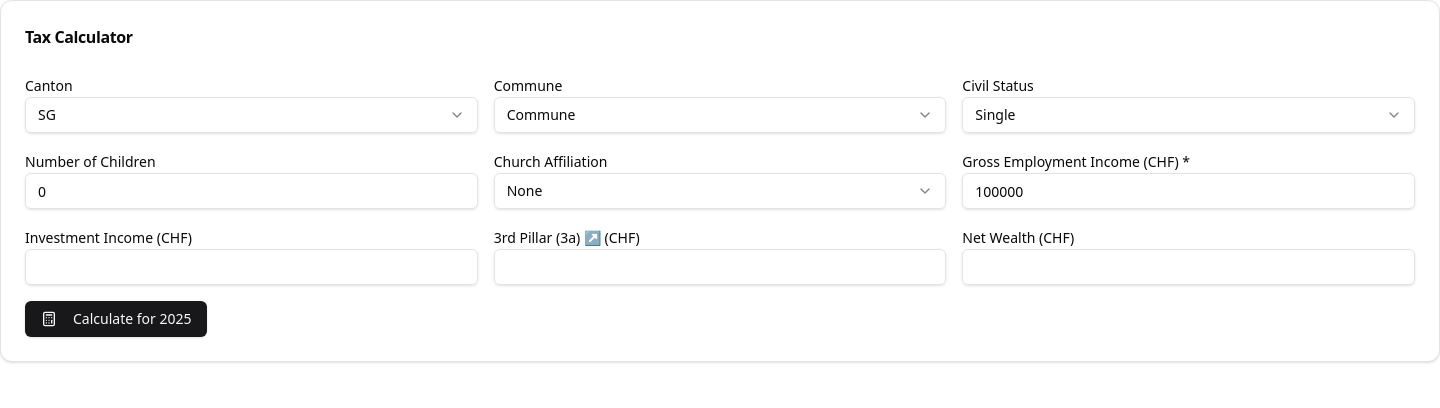
CalculatorCard › shows the backend error message when saving fails
The width and height of the screenshot is (1440, 408).
Click the button "Calculate for 2025" at (116, 319), box [25,301,208,337]
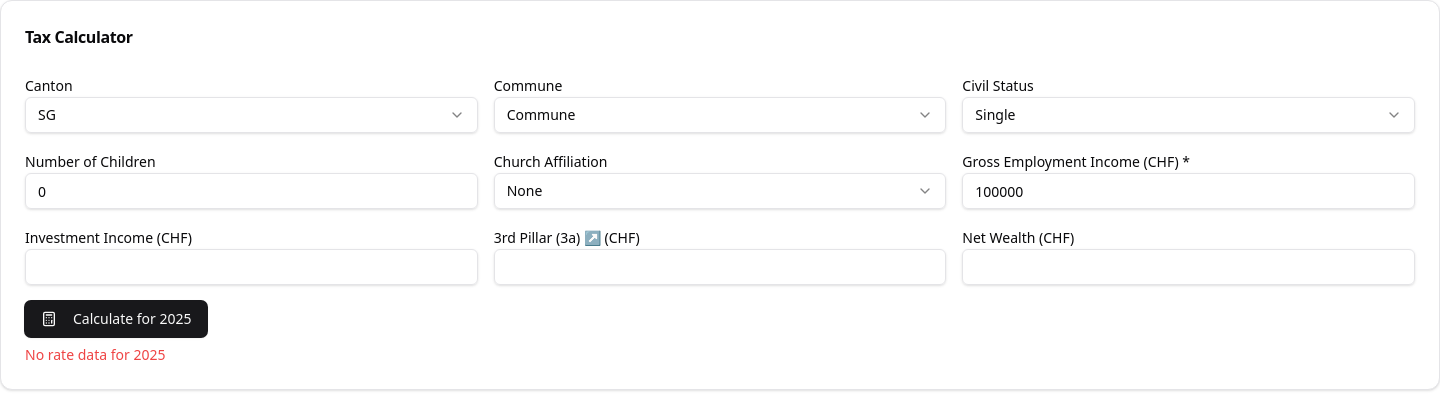
Expected: the text "No rate data for 2025" is shown, [25,345,166,364]
